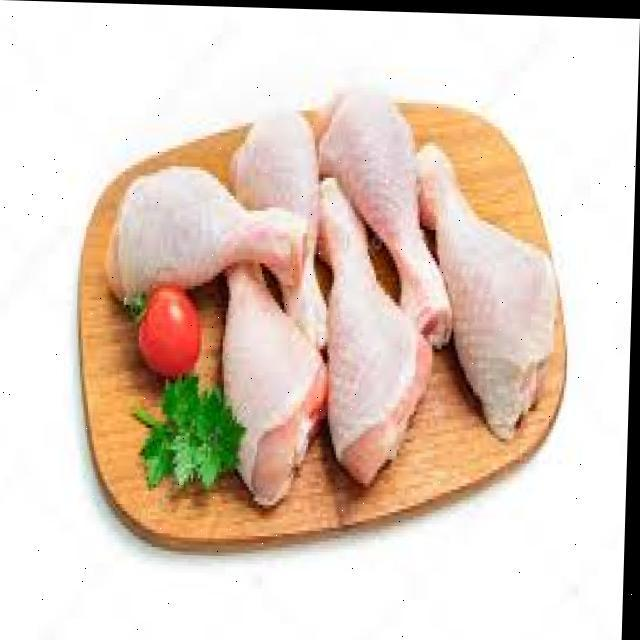leg: (417, 138, 562, 420), (309, 174, 435, 466), (316, 80, 454, 336), (216, 240, 332, 504), (104, 156, 311, 303), (222, 110, 334, 338)
